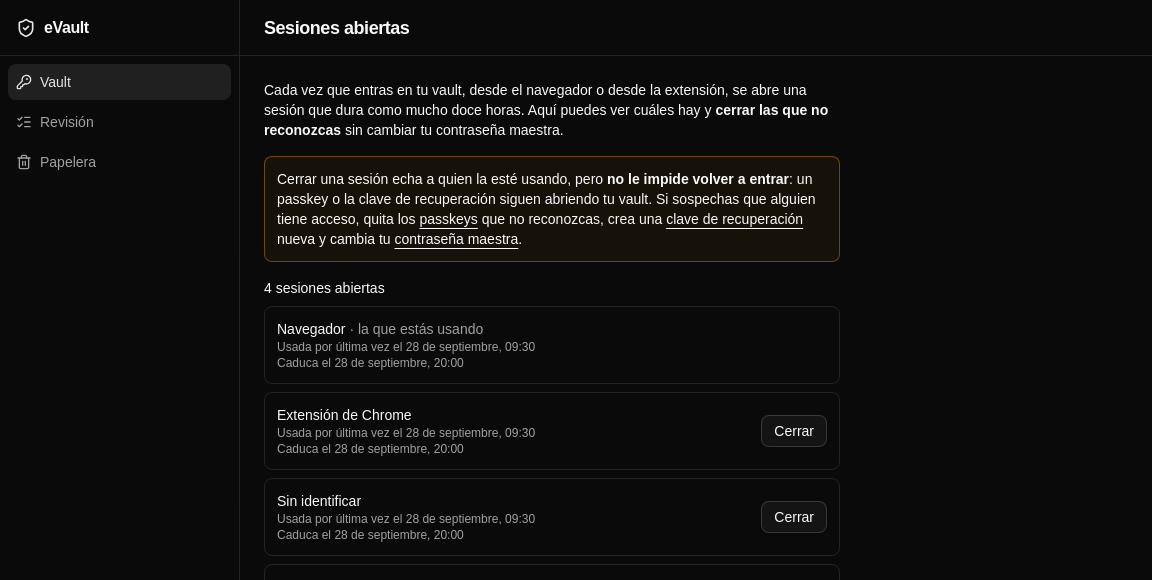
Test: closing › closes one by its identifier
Click the button "Cerrar" in the row of "Extensión de Chrome": (794, 431) [761,415,827,447]
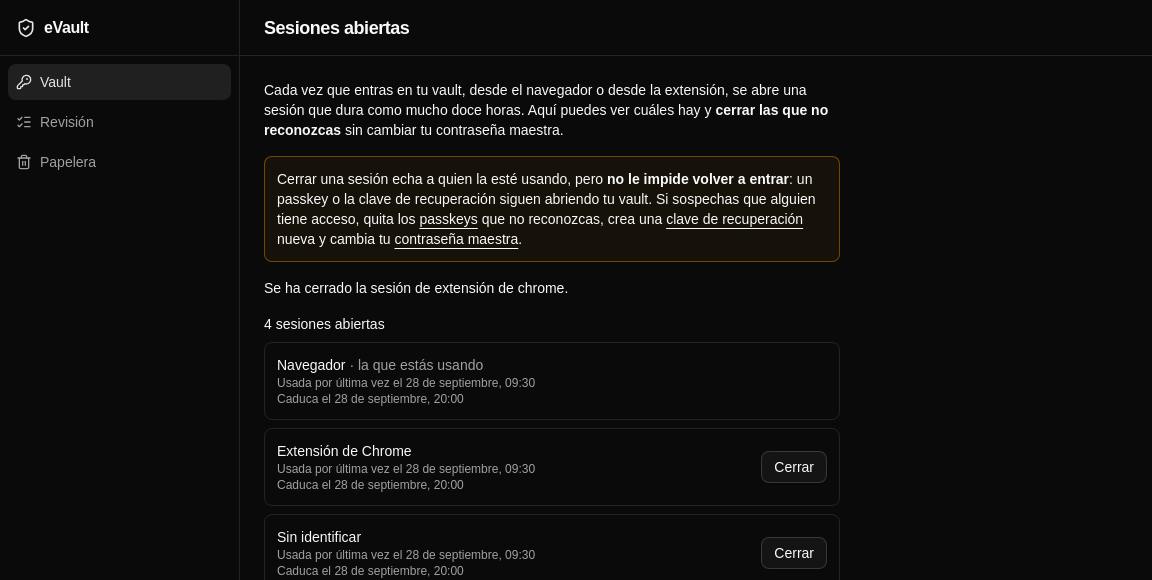
Check: the message reads "Se ha cerrado la sesión de extensión de chrome.", box [264,280,568,296]
